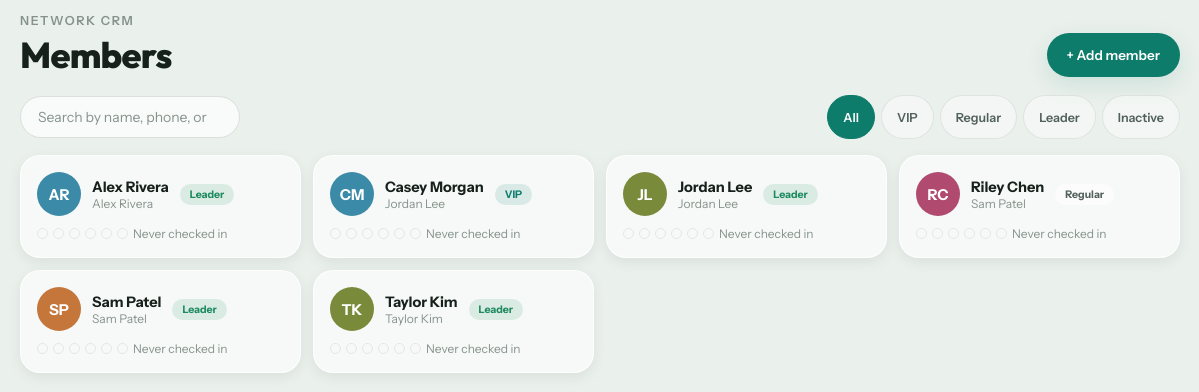
MembersPage › search filters the member list
Expected: the text "Casey Morgan" is shown, [385,178,484,196]
Step 1. Type "riley" into the search field named "search members" → point(130, 117), box [20,96,240,138]
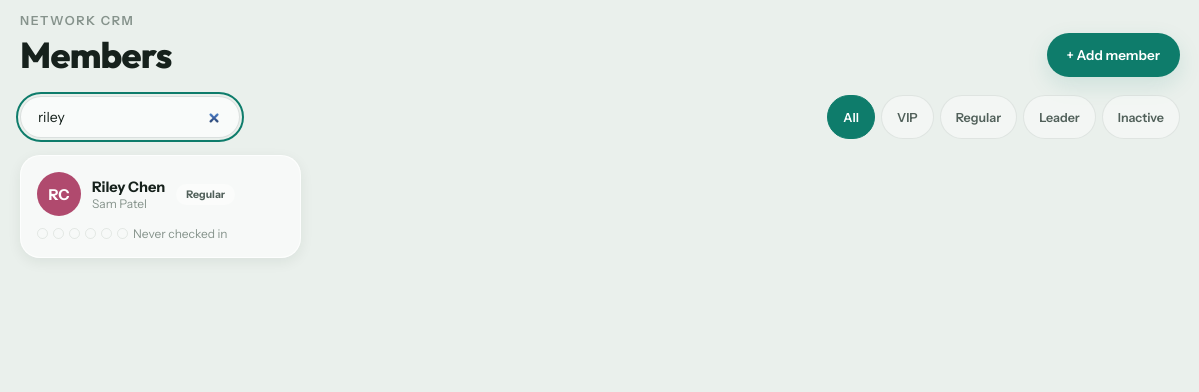
Expected: the text "Riley Chen" is shown, [92,178,165,196]
Now the button "Casey Morgan" is gone
